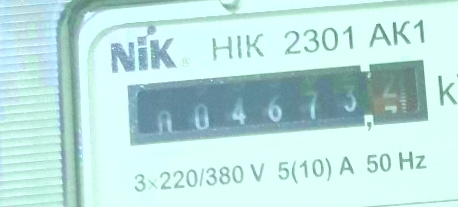0: (153, 104, 175, 136), (190, 99, 211, 131)
2: (377, 67, 400, 101)
3: (339, 79, 359, 115)
4: (228, 92, 249, 128)
6: (262, 89, 285, 124)
7: (300, 85, 325, 124)
screen: (120, 53, 435, 155)
